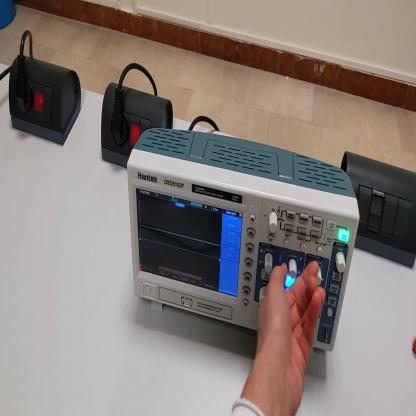hand: (256, 259, 325, 409)
oscilloscope: (127, 127, 361, 357)
pliers: (411, 334, 416, 358)
socket: (6, 55, 85, 149), (100, 80, 175, 173)
